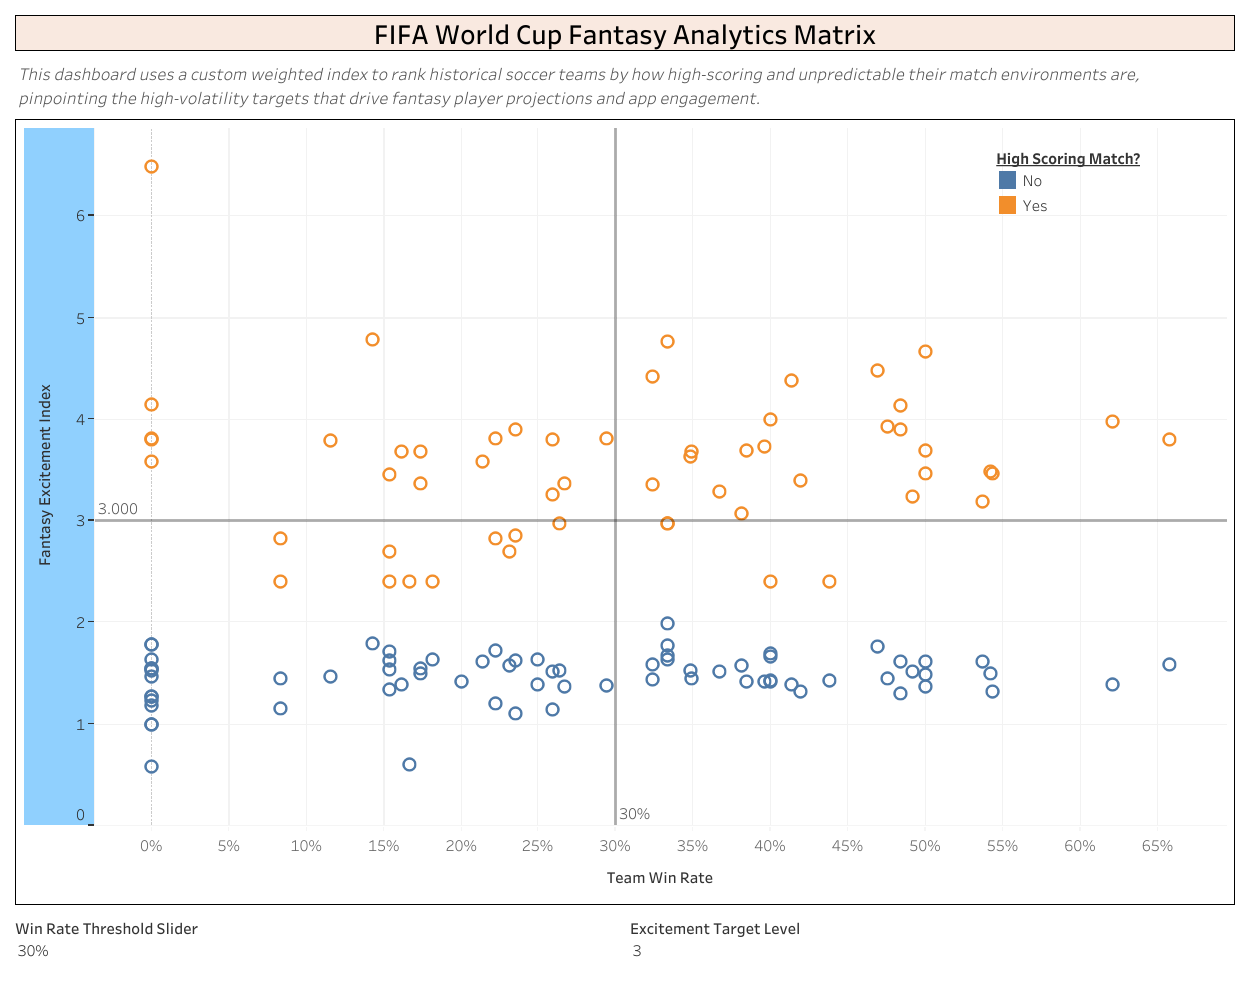

Layout of this report page (visuals, bound fields, positions):
{"tool":"tableau","page":{"name":"FIFA World Cup Fantasy Analytics Matrix","canvas":[1000,800],"ordinal":0},"visuals":[{"type":"text","box":[8,8,984,37]},{"type":"text","box":[8,45,984,46]},{"type":"worksheet","title":"Team Volatility & Consistency Quadrant","mark":"Automatic","rows":["Calculation_0015165234561082"],"cols":["Calculation_0015165206556718"],"box":[8,91,984,637]},{"type":"legend","title":"Team Volatility & Consistency Quadrant","param":"[sqlproxy.1bt3jtq0svdtkg1fz1bez1agwz6q].[none:Calculation_0015165206257709:nk]","box":[796,115,152,59]},{"type":"parameter","param":"[Parameters].[Parameter 0015165261209671]","box":[8,728,492,64]},{"type":"parameter","param":"[Parameters].[Parameter 0015165262495816]","box":[500,728,492,64]}]}

Visuals, with their boxes in screenshot pixels (x1, y1, x2, y2), scaled from the page's 1000x800 canvas onto the 1249x999 screenshot:
text: x1=10, y1=10, x2=1239, y2=56
text: x1=10, y1=56, x2=1239, y2=114
"Team Volatility & Consistency Quadrant" worksheet: x1=10, y1=114, x2=1239, y2=909
"Team Volatility & Consistency Quadrant" legend: x1=994, y1=144, x2=1184, y2=217
parameter: x1=10, y1=909, x2=624, y2=989
parameter: x1=624, y1=909, x2=1239, y2=989
